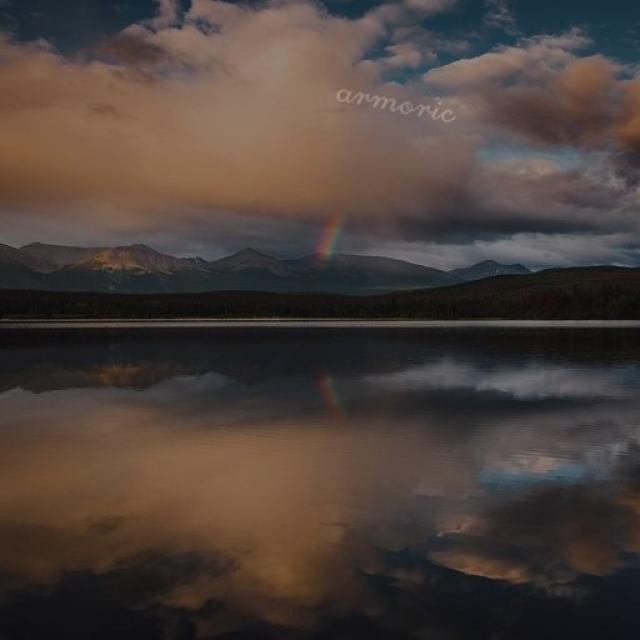watermark: (326, 71, 480, 129)
